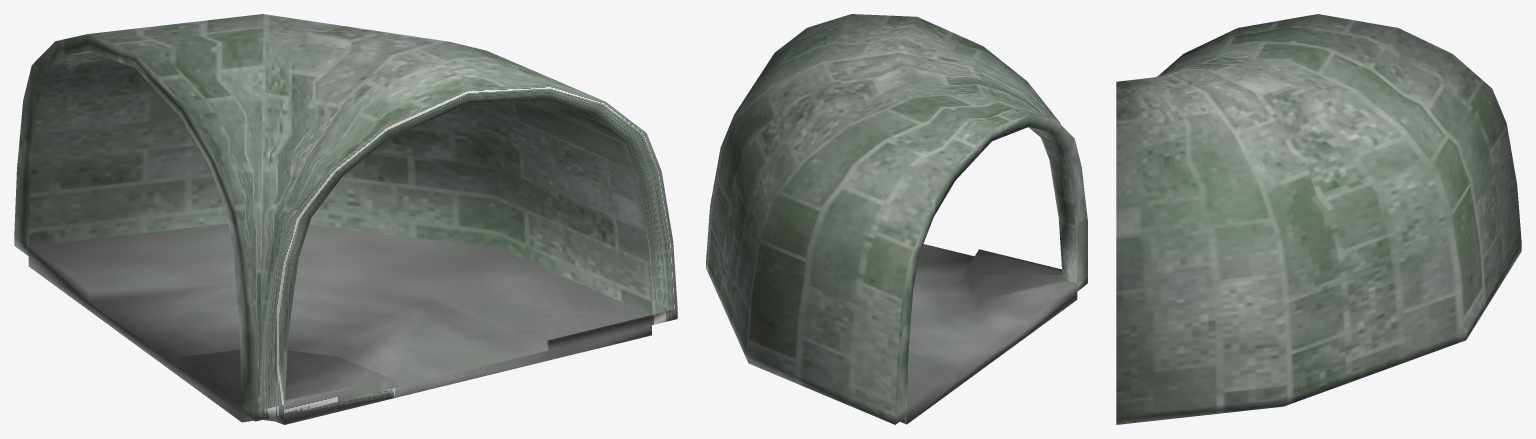
Rendered from Tunnel_Curve_2.glb.
The picture shows the model from 3 angles, left to right: view 1: azimuth 30°, elevation 25°; view 2: azimuth 150°, elevation 25°; view 3: azimuth 270°, elevation 25°; orthographic projection. The views are drawn at different scales.
Visible parts, largest first — view 1: Tunnel_Straight_Curve; view 2: Tunnel_Straight_Curve; view 3: Tunnel_Straight_Curve.
Part boxes in pixels (left/top/right/bottom): Tunnel_Straight_Curve: left=14, top=14, right=677, bottom=424; Tunnel_Straight_Curve: left=706, top=14, right=1087, bottom=424; Tunnel_Straight_Curve: left=1116, top=14, right=1521, bottom=424.
Bounding box in the file's own units: 22.05 × 14.57 × 21.76.
Materials: 1 (1 with a texture image).
